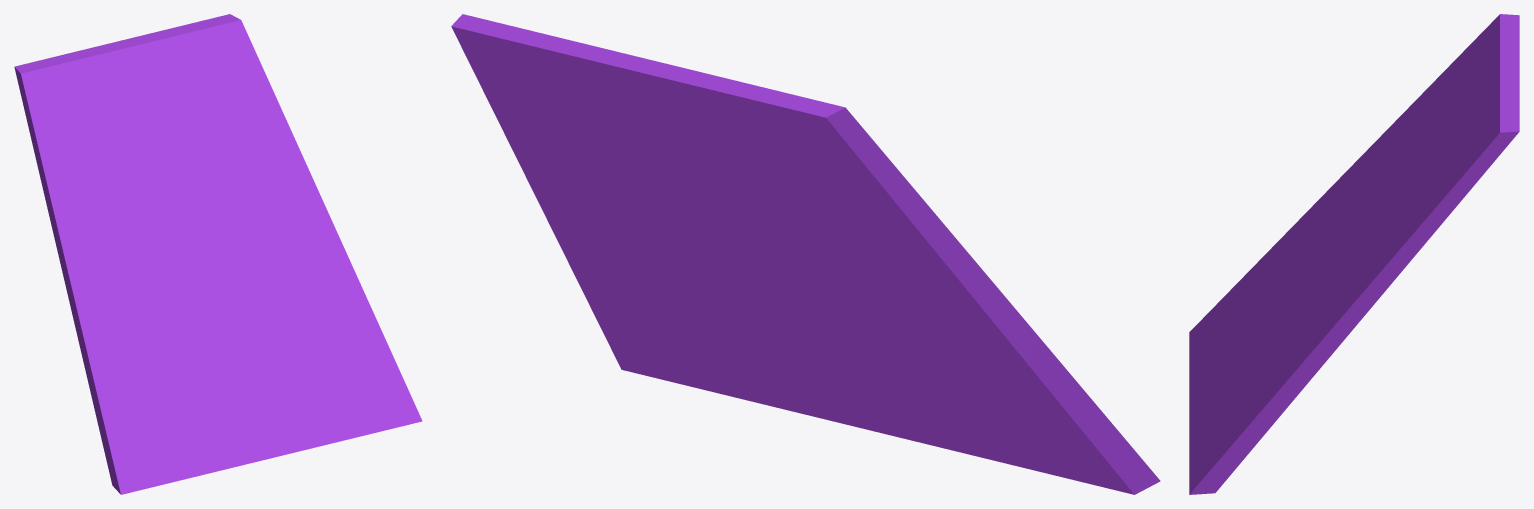
File: Window_90_chunks.fbx
3 views of the same model, side by side, from view 1: azimuth 30°, elevation 25°; view 2: azimuth 150°, elevation 25°; view 3: azimuth 270°, elevation 25° (orthographic). The views are drawn at different scales.
Parts seen in each view (by area): view 1: Window_90_1, Window_90_4, Window_90_6, Window_90_8, Window_90_9, Window_90_23, Window_90_5, Window_90_3, Window_90_17, Window_90_11, Window_90_26, Window_90_18 (+6 smaller); view 2: Window_90_4, Window_90_1, Window_90_7, Window_90_8, Window_90_6, Window_90_17, Window_90_3, Window_90_20, Window_90_9, Window_90_23, Window_90_0, Window_90_15 (+10 smaller); view 3: Window_90_6, Window_90_1, Window_90_4, Window_90_7, Window_90_8, Window_90_9, Window_90_5, Window_90_23, Window_90_3, Window_90_26, Window_90_17, Window_90_11 (+6 smaller).
Boxes of the visible parts, left/top/right/bottom form: Window_90_1: left=242, top=266, right=422, bottom=431; Window_90_4: left=14, top=33, right=181, bottom=185; Window_90_6: left=205, top=178, right=379, bottom=326; Window_90_8: left=150, top=27, right=245, bottom=249; Window_90_9: left=78, top=280, right=175, bottom=420; Window_90_23: left=23, top=86, right=132, bottom=220; Window_90_5: left=182, top=26, right=288, bottom=182; Window_90_3: left=118, top=175, right=196, bottom=303; Window_90_17: left=97, top=388, right=194, bottom=494; Window_90_11: left=169, top=299, right=251, bottom=387; Window_90_26: left=258, top=376, right=378, bottom=455; Window_90_18: left=135, top=411, right=256, bottom=491; Window_90_4: left=590, top=51, right=854, bottom=206; Window_90_1: left=591, top=275, right=799, bottom=392; Window_90_7: left=451, top=14, right=616, bottom=185; Window_90_8: left=546, top=39, right=741, bottom=242; Window_90_6: left=527, top=180, right=722, bottom=275; Window_90_17: left=929, top=391, right=1160, bottom=494; Window_90_3: left=699, top=188, right=964, bottom=338; Window_90_20: left=899, top=223, right=1037, bottom=362; Window_90_9: left=869, top=303, right=1104, bottom=428; Window_90_23: left=820, top=118, right=942, bottom=253; Window_90_0: left=575, top=239, right=779, bottom=308; Window_90_15: left=745, top=283, right=930, bottom=384; Window_90_6: left=1263, top=232, right=1385, bottom=412; Window_90_1: left=1189, top=280, right=1327, bottom=494; Window_90_4: left=1402, top=14, right=1519, bottom=183; Window_90_7: left=1375, top=102, right=1519, bottom=293; Window_90_8: left=1346, top=85, right=1519, bottom=244; Window_90_9: left=1244, top=208, right=1333, bottom=301; Window_90_5: left=1381, top=101, right=1508, bottom=258; Window_90_23: left=1387, top=24, right=1490, bottom=162; Window_90_3: left=1323, top=157, right=1402, bottom=236; Window_90_26: left=1189, top=375, right=1242, bottom=470; Window_90_17: left=1189, top=276, right=1254, bottom=339; Window_90_11: left=1255, top=260, right=1308, bottom=336.
Bounding box in the file's own units: 969 × 947 × 833.
